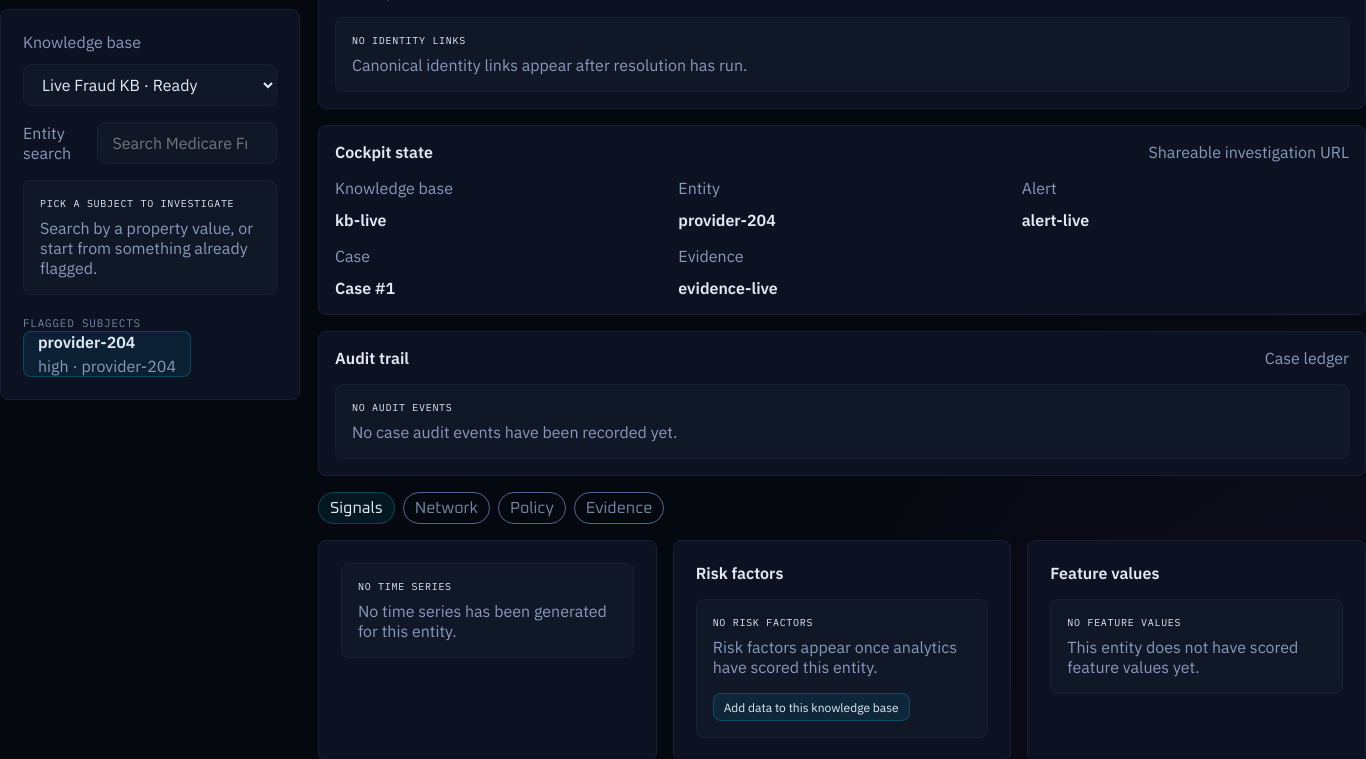
InvestigationWorkbenchPage › honors explicit alert, case, and evidence cockpit state from the URL
This screenshot has width=1366, height=759.
(page scrolled)
expect the text "Cockpit state" is shown: met, box [335,142,433,162]
expect the text "alert-live" is shown: met, box [1022,210,1089,230]
Click the tab "Evidence" at (619, 508), box [574,492,664,524]
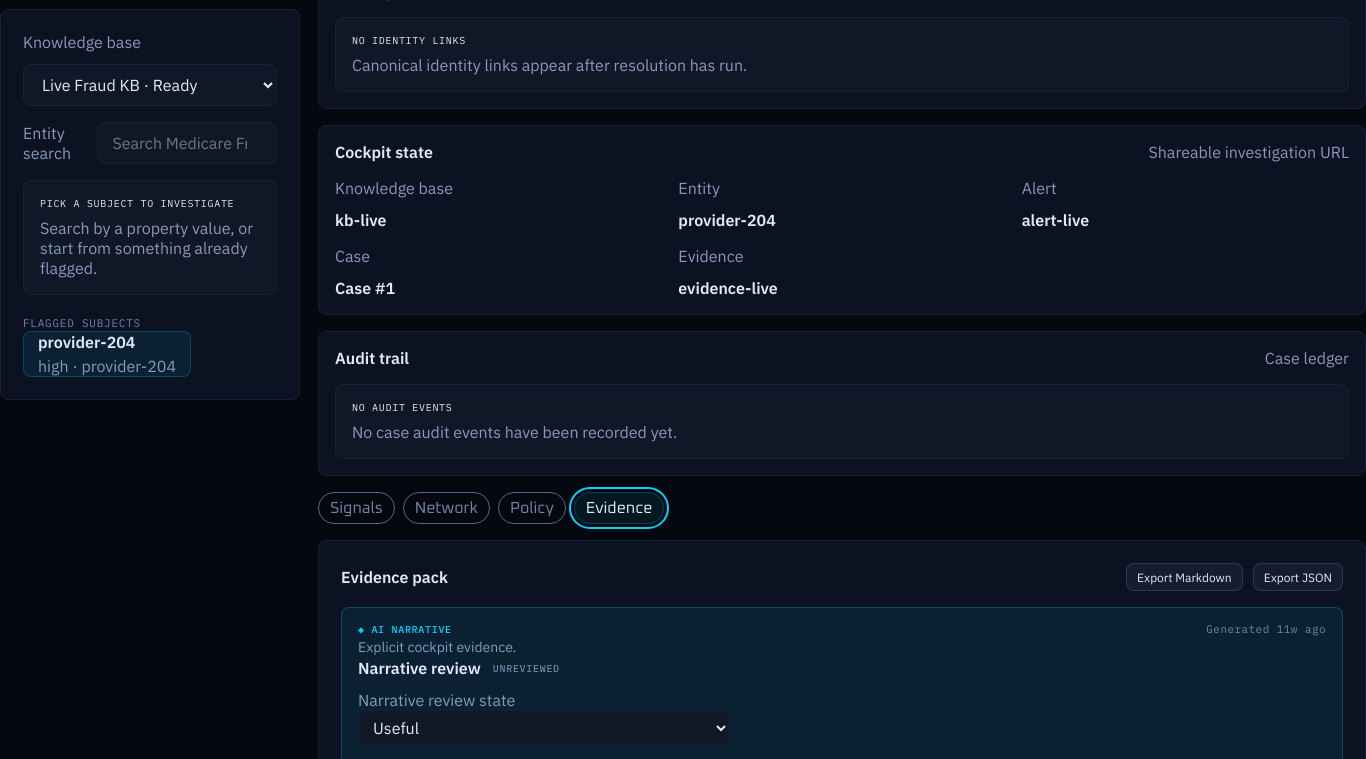
expect the text "Explicit cockpit evidence." is shown: met, box [358,638,516,656]
